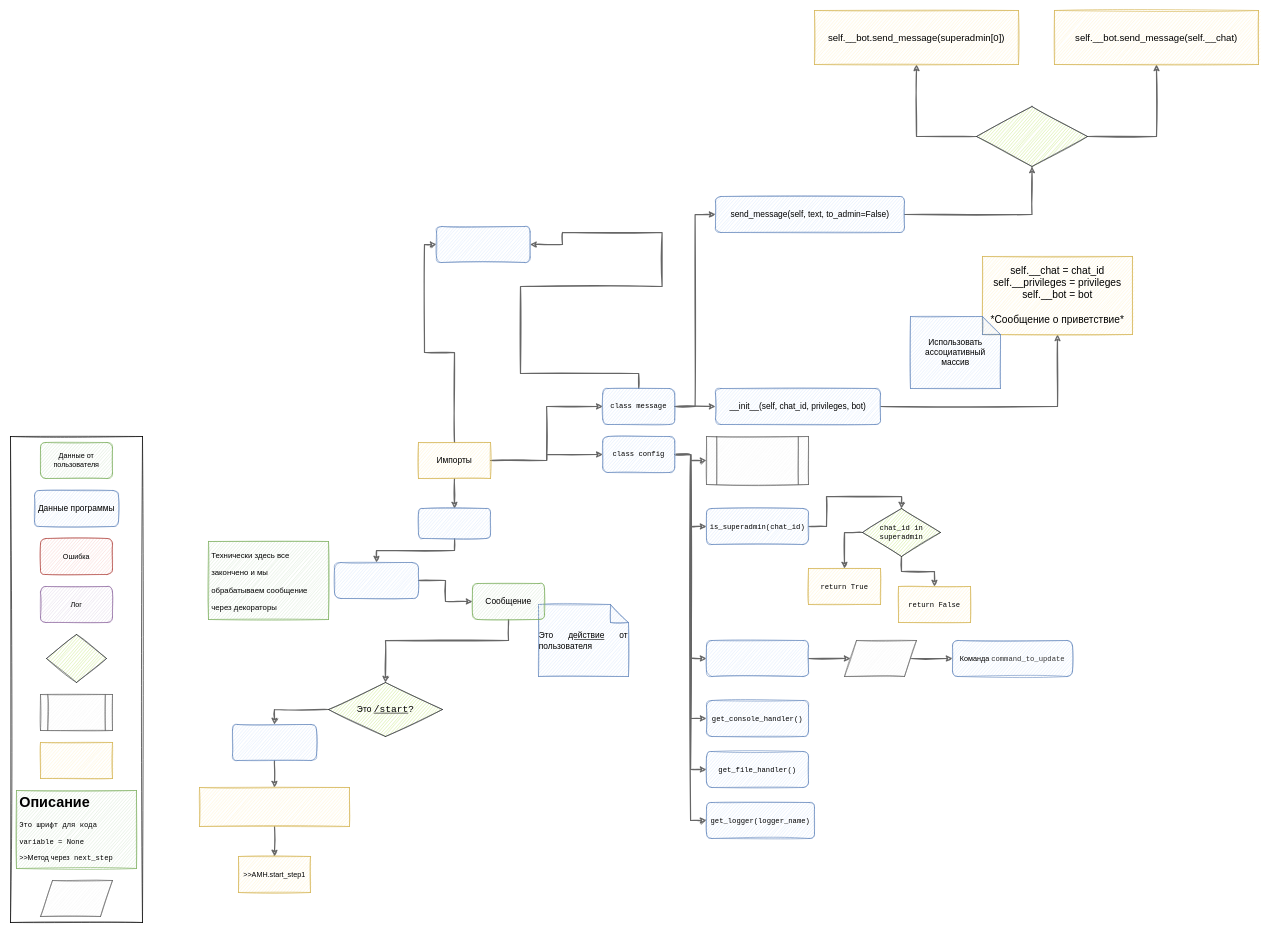
This 1269x933 diagram has some shape labels left out. Each missing label, with the box of its shape:
__init__(): (706, 640, 808, 676)
class AMH(message): (436, 226, 530, 262)
conn cursor command_to_update superadmin SECRET_TOKEN: (706, 436, 808, 484)
For Цикл: (844, 640, 916, 676)
message_class.send_message(): (199, 787, 350, 826)
А здесь переменные: (40, 694, 112, 730)
Действие программы: (40, 742, 112, 778)
Для админа?: (976, 106, 1088, 166)
Объект класса config: (418, 508, 490, 538)
Объект класса message, AMH: (232, 724, 316, 760)
Переменная bot: (334, 562, 418, 598)
Условие <Да / Нет>: (46, 634, 106, 682)
Цикл: (40, 880, 112, 916)
